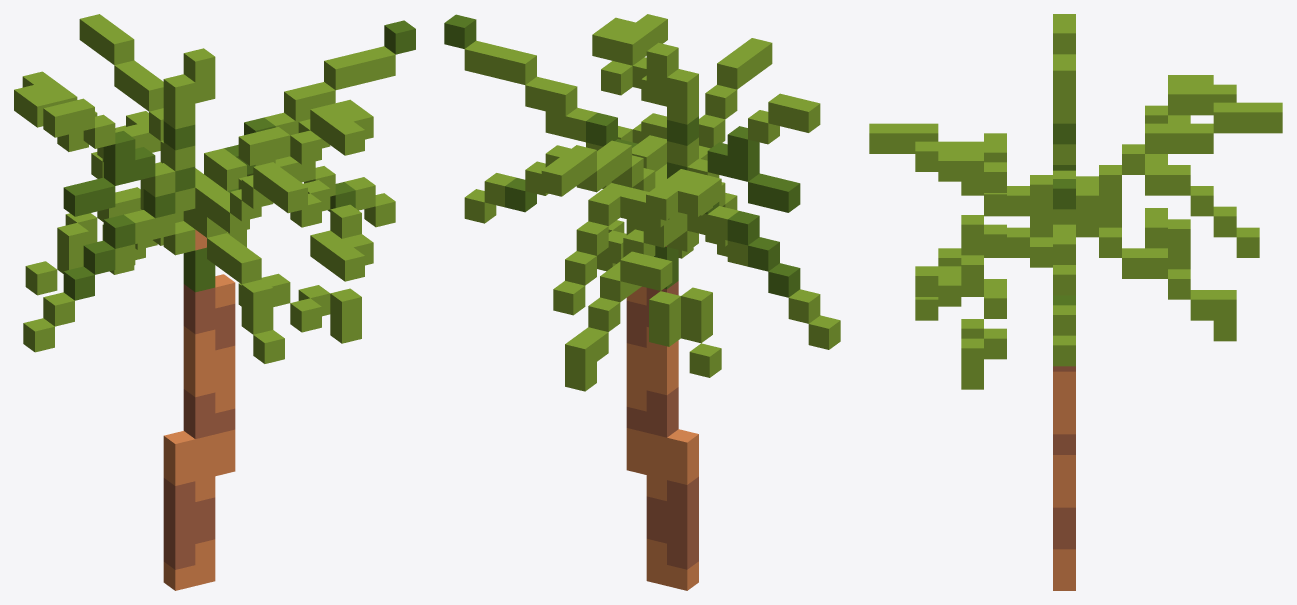
The model's file is Playa-Alterna-3.obj.
The picture shows the model from 3 angles, left to right: view 1: azimuth 30°, elevation 25°; view 2: azimuth 150°, elevation 25°; view 3: azimuth 270°, elevation 25°; orthographic projection.
Size of the model in its own units: 1.9 by 2.5 by 1.8.
1 material, 1 textured.
